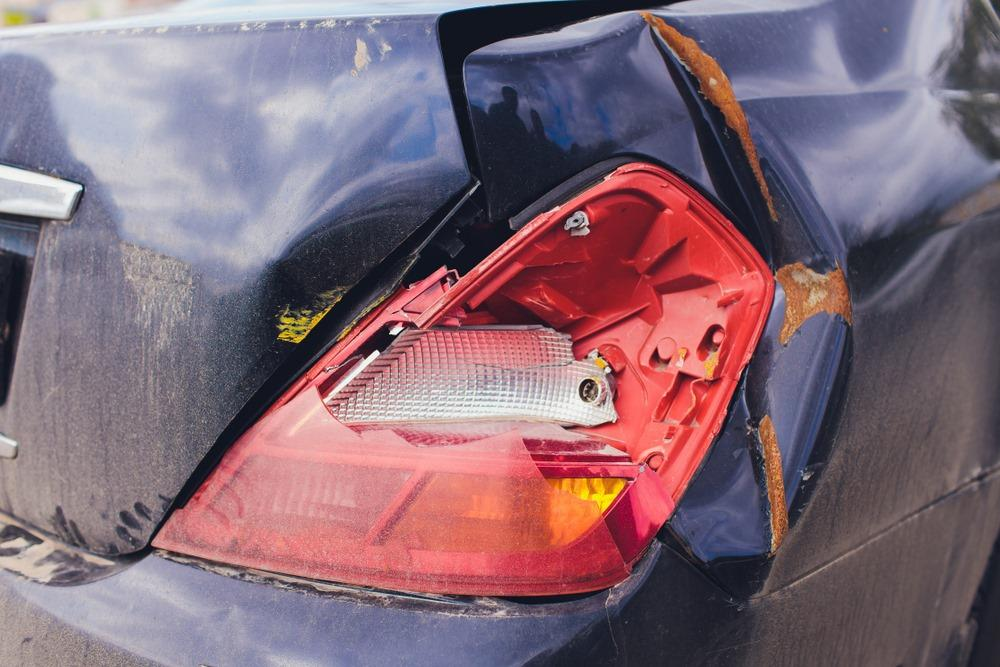dent: (666, 129, 846, 560), (257, 193, 435, 358)
lamp broken: (144, 158, 777, 596)
